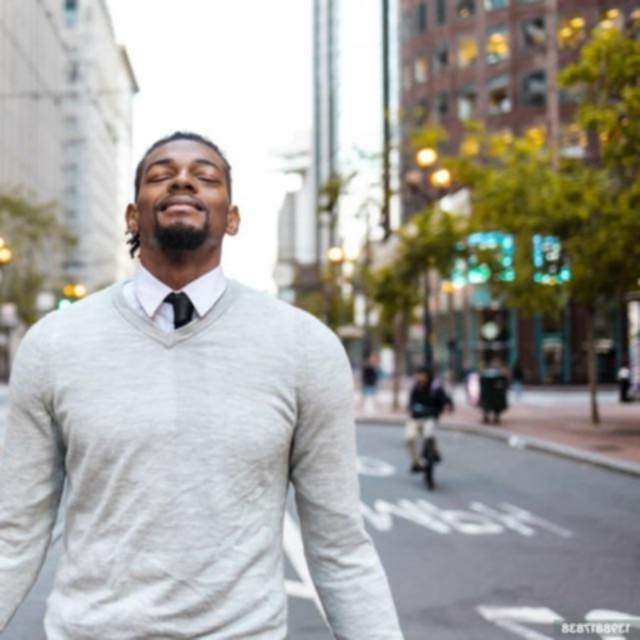Sin_Casco_Mascarrilla: (123, 130, 241, 266)
Sin_Chaleco: (5, 285, 338, 640), (201, 357, 207, 364)
